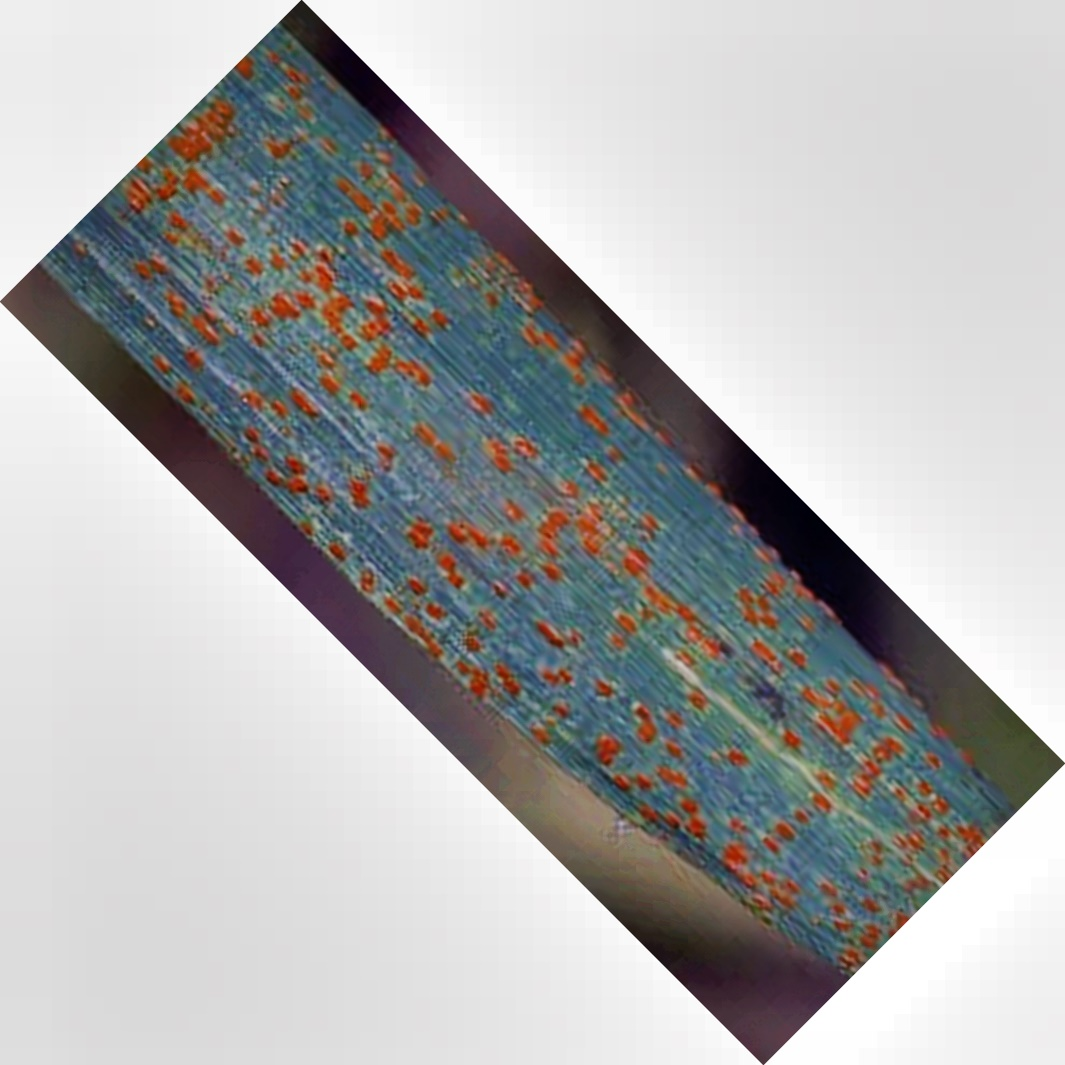Leaf Rust: (139, 157, 909, 881)
